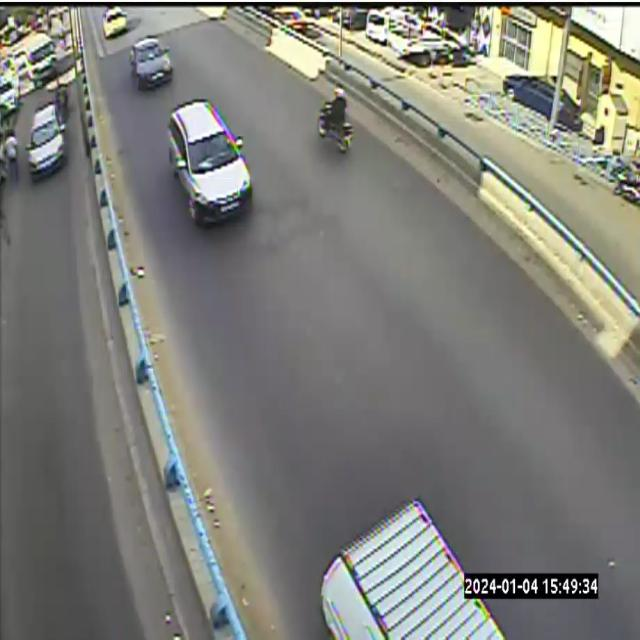car: (321, 500, 504, 639), (168, 99, 252, 223), (129, 37, 173, 89), (102, 7, 128, 39)
